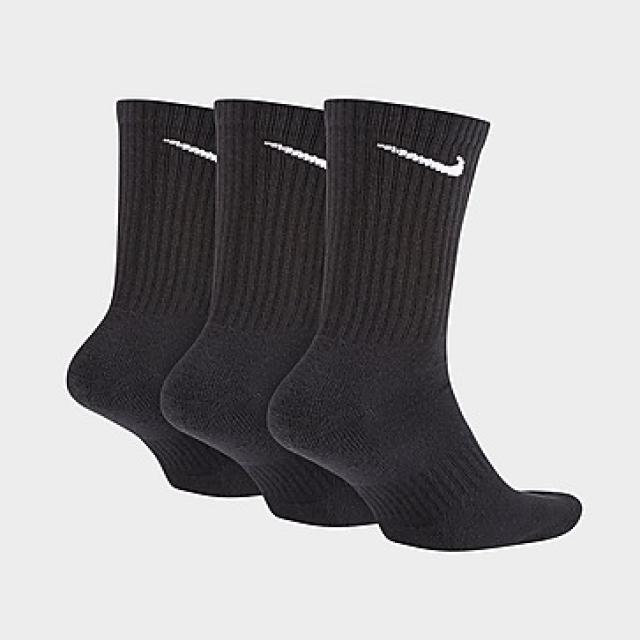sock: (264, 95, 582, 550), (157, 97, 375, 527), (65, 97, 261, 497)
